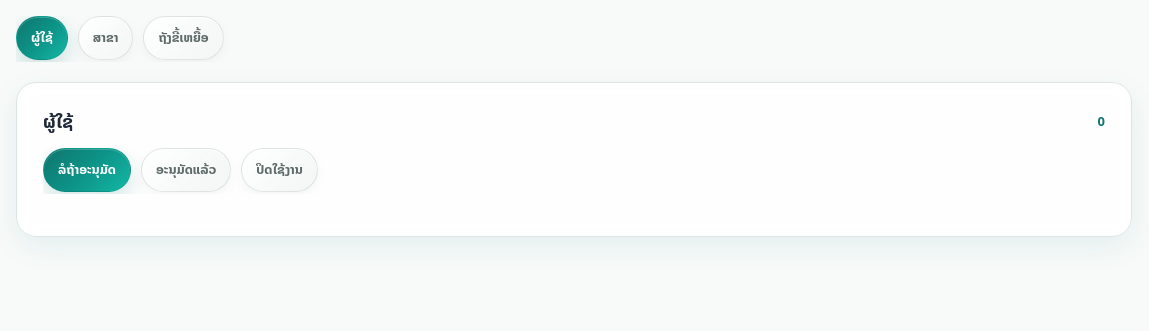
Admin disabled-user lifecycle › uses Lao accessible names for role and branch controls without visible English labels
This screenshot has width=1149, height=331.
Click the button "ປິດໃຊ້ງານ": (280, 170) [241, 148, 318, 192]
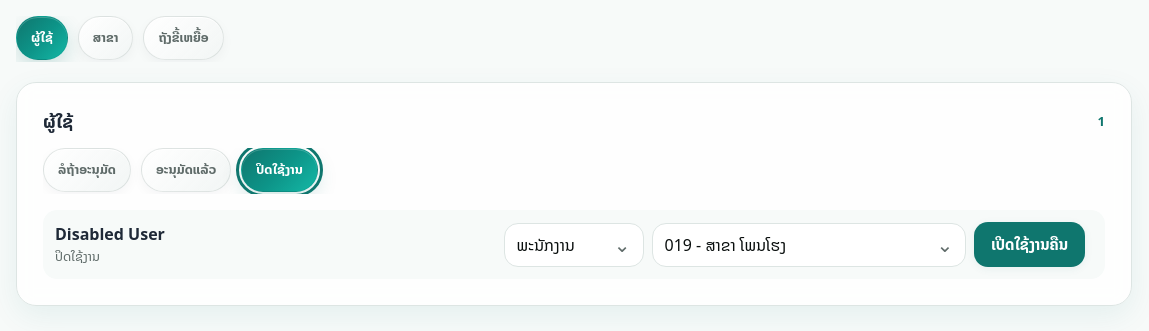
Expected: the dropdown named "ບົດບາດຂອງ Disabled User" is shown, [504, 223, 644, 267]
Expected: the dropdown named "ສາຂາຂອງ Disabled User" is shown, [652, 223, 966, 267]
